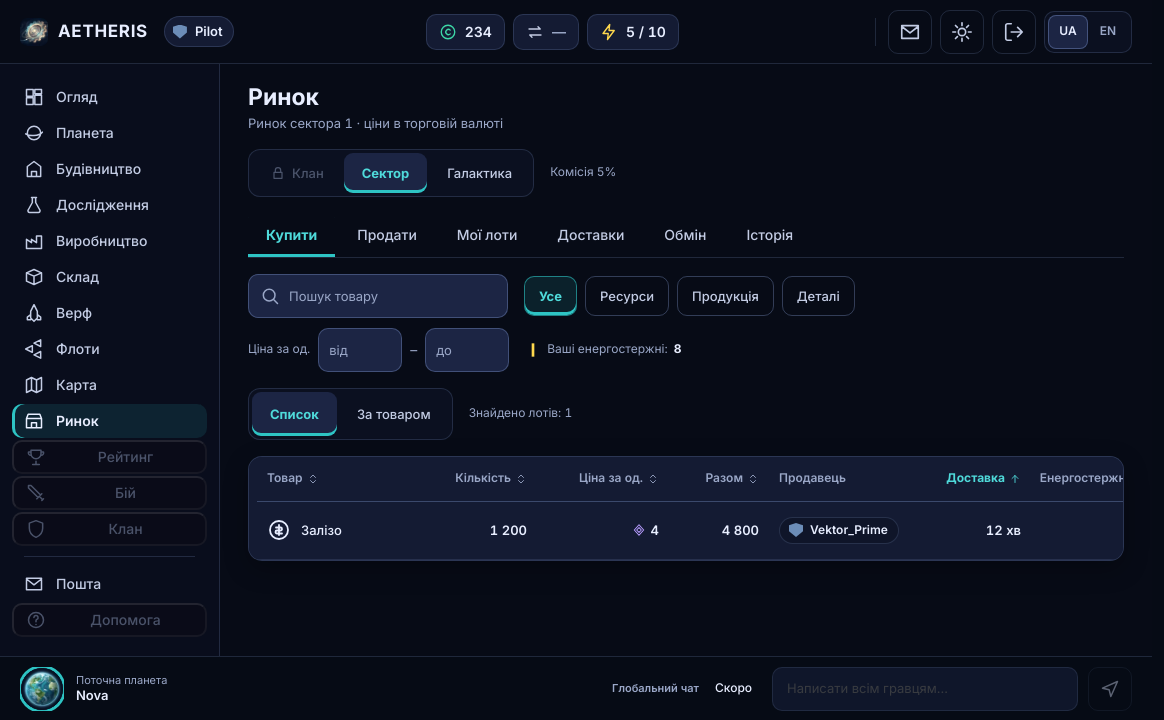
Test: my lots, deliveries, exchange and history › tells that there are no lots
Click the tab "Мої лоти". click: (487, 235)
box: [439,213,535,257]
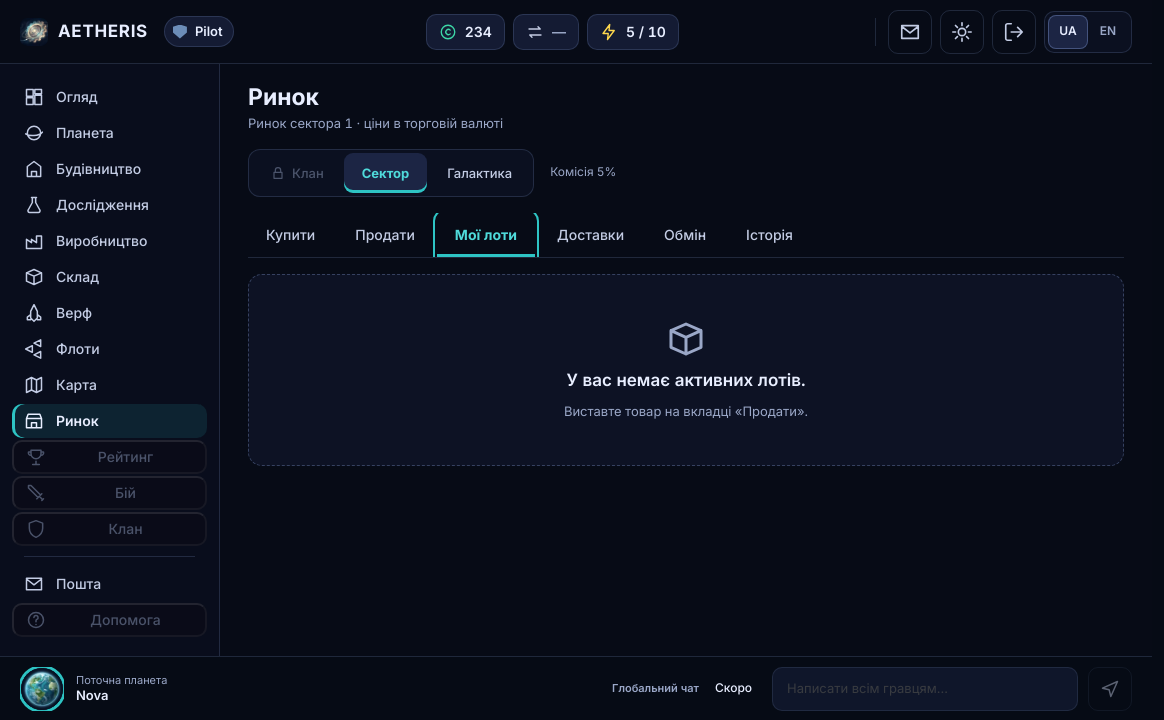
Expected: the heading "У вас немає активних лотів." is shown, [566,369,806,392]
